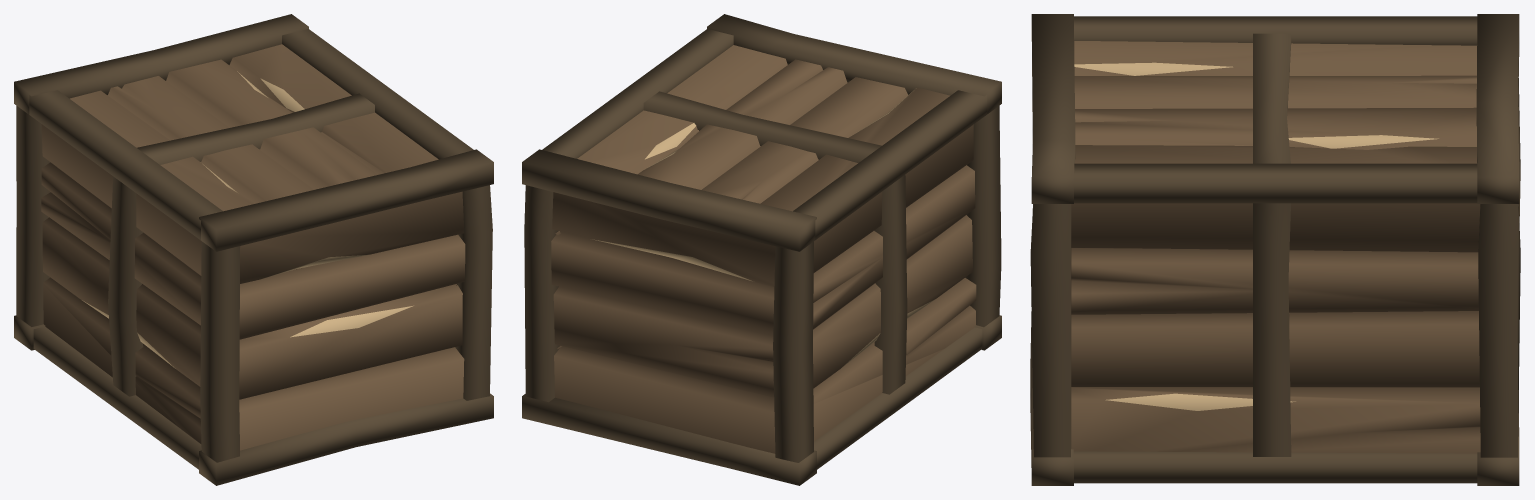
The model's file is rpgpp_lt_box_wood_01 -col.glb.
The picture shows the model from 3 angles, left to right: view 1: azimuth 30°, elevation 25°; view 2: azimuth 150°, elevation 25°; view 3: azimuth 270°, elevation 25°; orthographic projection. The views are drawn at different scales.
Parts seen in each view (by area): view 1: rpgpp_lt_box_wood_01 -col; view 2: rpgpp_lt_box_wood_01 -col; view 3: rpgpp_lt_box_wood_01 -col.
Part boxes in pixels (left/top/right/bottom): rpgpp_lt_box_wood_01 -col: left=14, top=14, right=493, bottom=485; rpgpp_lt_box_wood_01 -col: left=522, top=14, right=1001, bottom=485; rpgpp_lt_box_wood_01 -col: left=1030, top=14, right=1520, bottom=485.
Size of the model in its own units: 0.9238 by 0.8136 by 1.17.
1 material, 1 textured.
